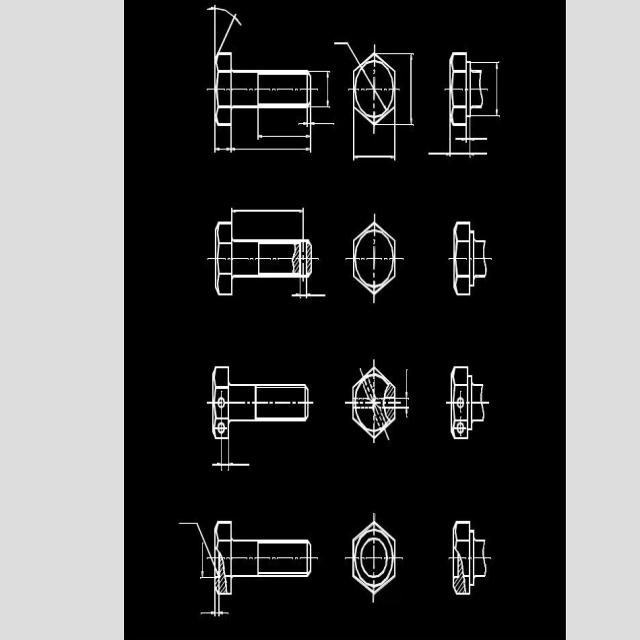marking_line: (229, 126, 313, 155), (429, 127, 488, 158), (257, 110, 313, 142), (352, 125, 399, 163), (206, 7, 243, 52), (397, 53, 415, 127), (213, 440, 250, 471), (230, 207, 305, 220), (483, 61, 500, 117), (312, 69, 333, 110), (291, 280, 327, 301), (294, 109, 335, 126), (396, 367, 409, 419), (200, 595, 230, 616), (454, 128, 489, 145), (199, 542, 214, 580), (213, 127, 234, 153)
